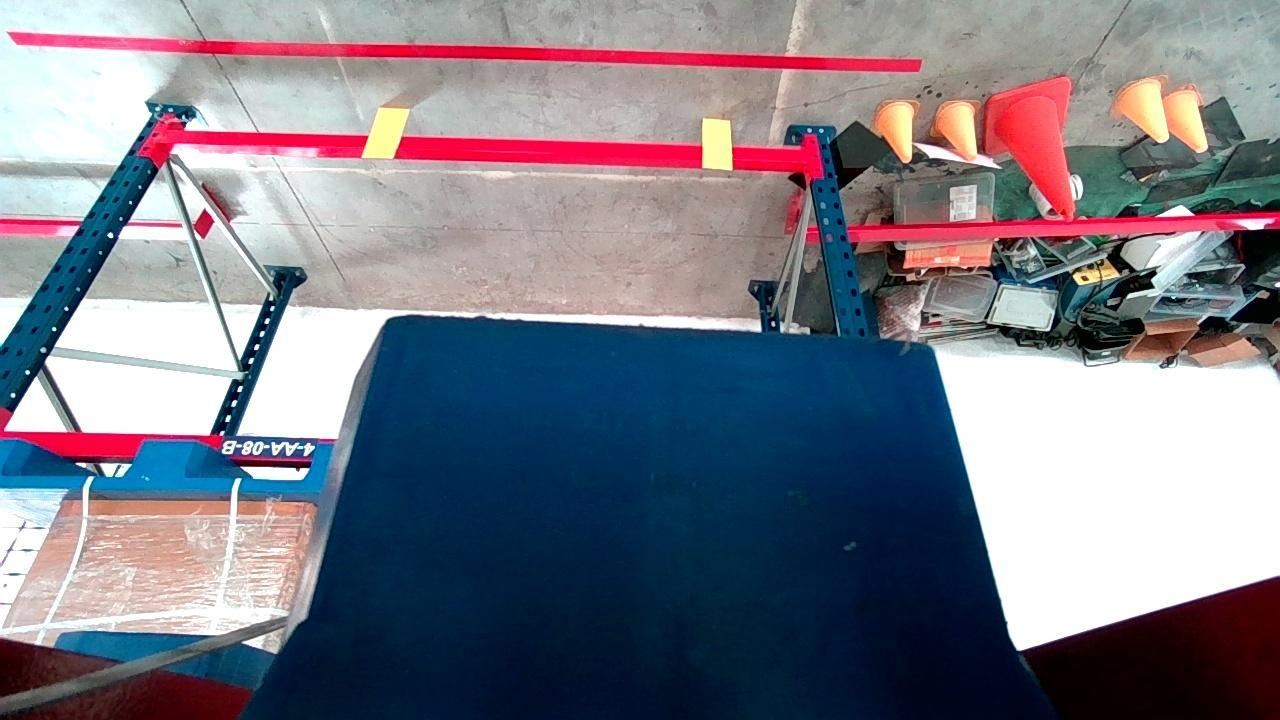h_rack: (473, 548, 1122, 590)
orange_strip: (869, 561, 920, 614), (549, 549, 576, 598)
red_line: (359, 647, 1277, 685)
